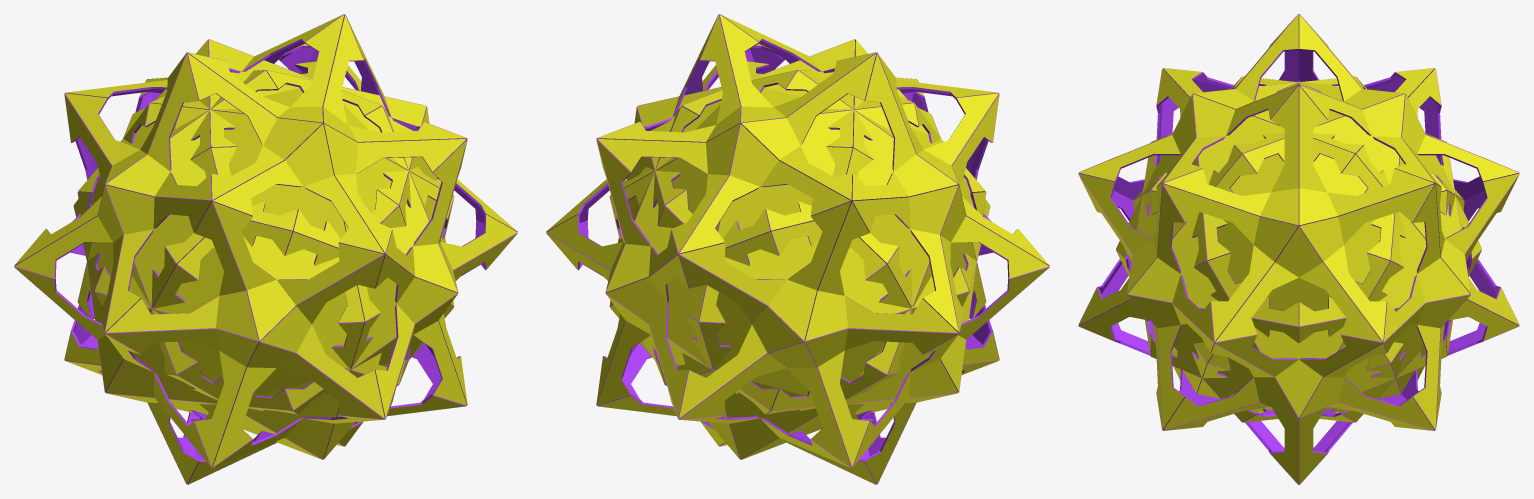
Rendered from MedialIcosacronicHexecontahedronS1.glb.
The picture shows the model from 3 angles, left to right: view 1: azimuth 30°, elevation 25°; view 2: azimuth 150°, elevation 25°; view 3: azimuth 270°, elevation 25°; orthographic projection. The views are drawn at different scales.
Parts seen in each view (by area): view 1: root; view 2: root; view 3: root.
Boxes of the visible parts, left/top/right/bottom form: root: left=14, top=14, right=517, bottom=484; root: left=546, top=14, right=1049, bottom=484; root: left=1078, top=14, right=1519, bottom=484.
Bounding box in the file's own units: 10.38 × 10.38 × 10.38.
